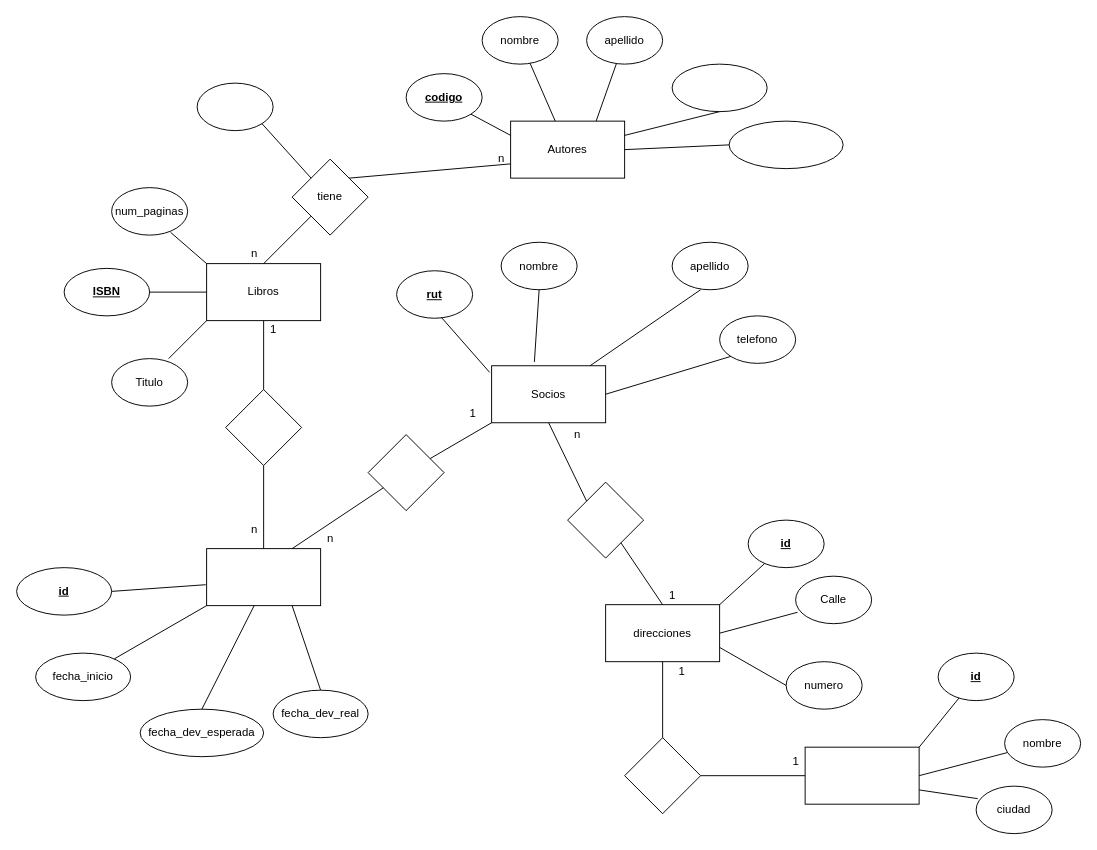
The diagram is 1097 pixels wide and 850 high, and some of its shapes have lost their labels. Each missing label, with the centre of its shape:
"comunas" belongs at pixel 861 775.
"contiene" belongs at pixel 263 427.
"fecha_fallecimiento" belongs at pixel 785 144.
"fecha_nacimiento" belongs at pixel 719 87.
"pertenece" belongs at pixel 662 775.
"Prestamos" belongs at pixel 263 577.
"solicita" belongs at pixel 405 472.
"tipo_autor" belongs at pixel 234 106.
"vive" belongs at pixel 605 519.
